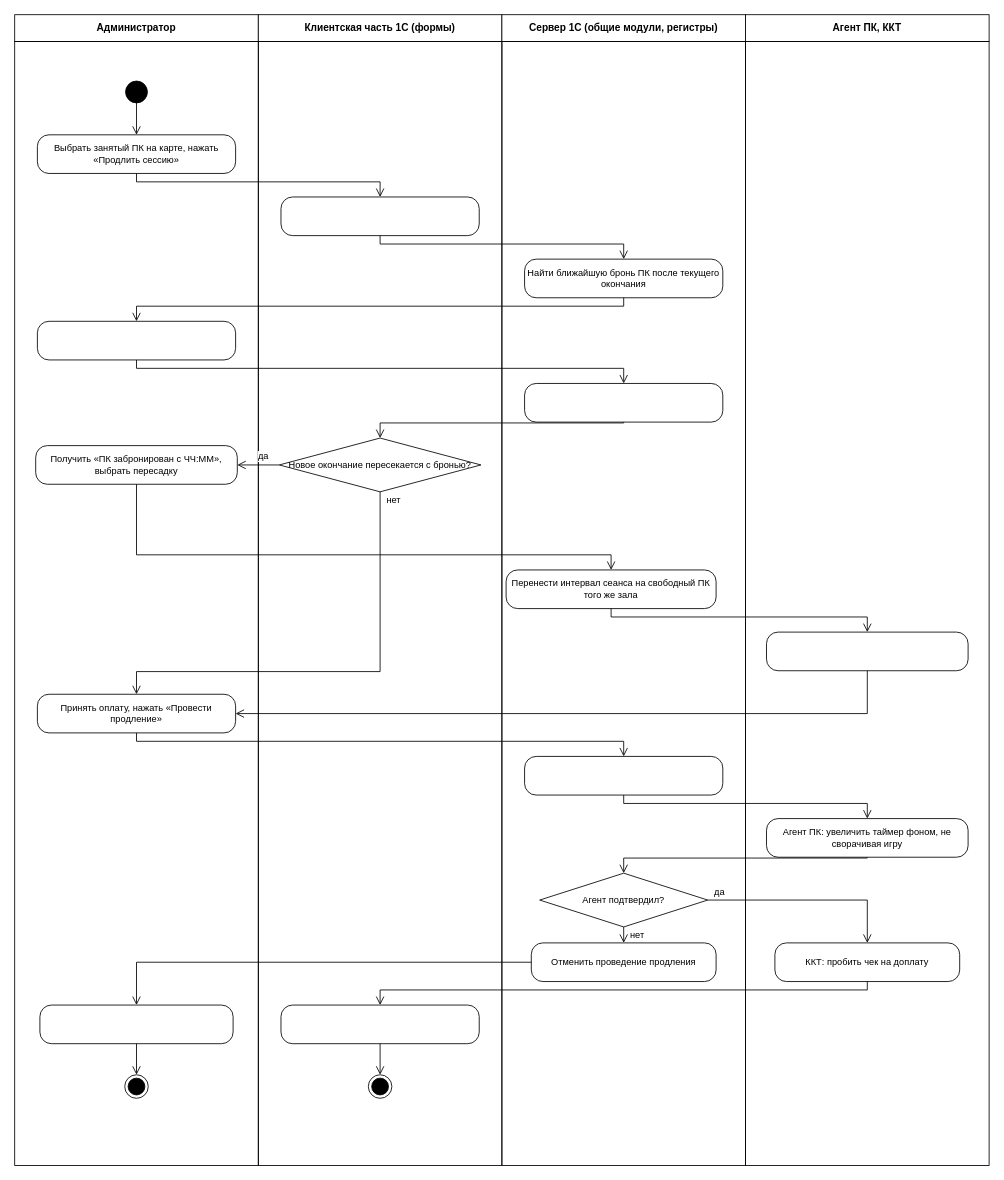
Some shapes in this 1004 by 1180 pixel diagram are drawn without their labels. The shapes that lost their labels are listed below. From the top down, each one's centre as x and y in pixels, then its label:
At pixel 379 216: "Создать «Продление сессии» на основании активной сессии".
At pixel 136 340: "Указать дополнительное время или сумму".
At pixel 623 402: "Рассчитать доплату с учётом тарифа и лояльности".
At pixel 867 651: "Агенты: завершить сеанс на старом ПК, запустить на новом".
At pixel 623 775: "Транзакция: блокировка, повторная проверка, движения регистров".
At pixel 136 1024: "Получить сообщение об ошибке связи с ПК".
At pixel 379 1024: "Обновить таймер на карте зала".
